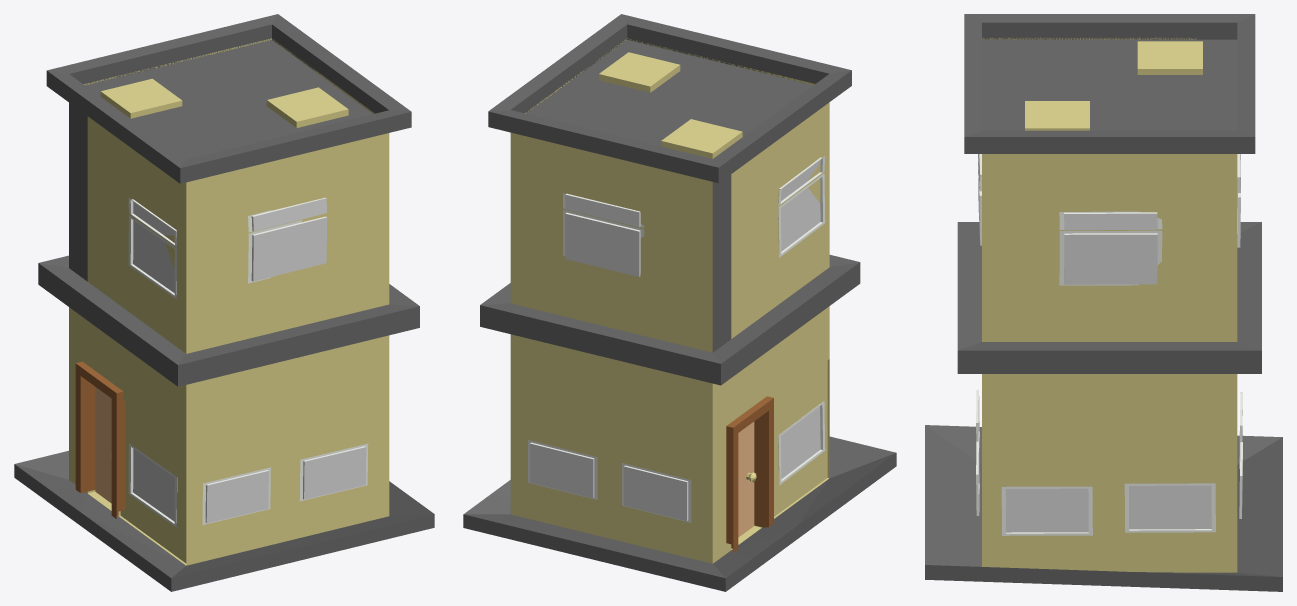
The model's file is building.dae.
The picture shows the model from 3 angles, left to right: view 1: azimuth 30°, elevation 25°; view 2: azimuth 150°, elevation 25°; view 3: azimuth 270°, elevation 25°; orthographic projection. The views are drawn at different scales.
Parts seen in each view (by area): view 1: Cube; view 2: Cube; view 3: Cube.
Boxes of the visible parts, x1,y1,x2,y2 form: Cube: [14, 14, 434, 591]; Cube: [463, 14, 896, 591]; Cube: [925, 14, 1282, 591].
Bounding box in the file's own units: 7.13 × 7.49 × 10.37.
